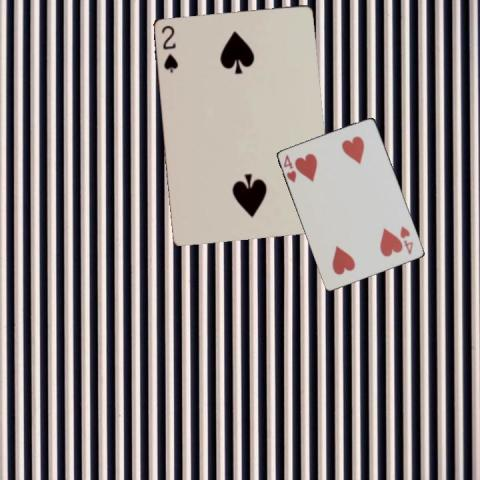2s: (158, 22, 179, 74)
4h: (397, 223, 415, 256), (281, 152, 298, 184)
